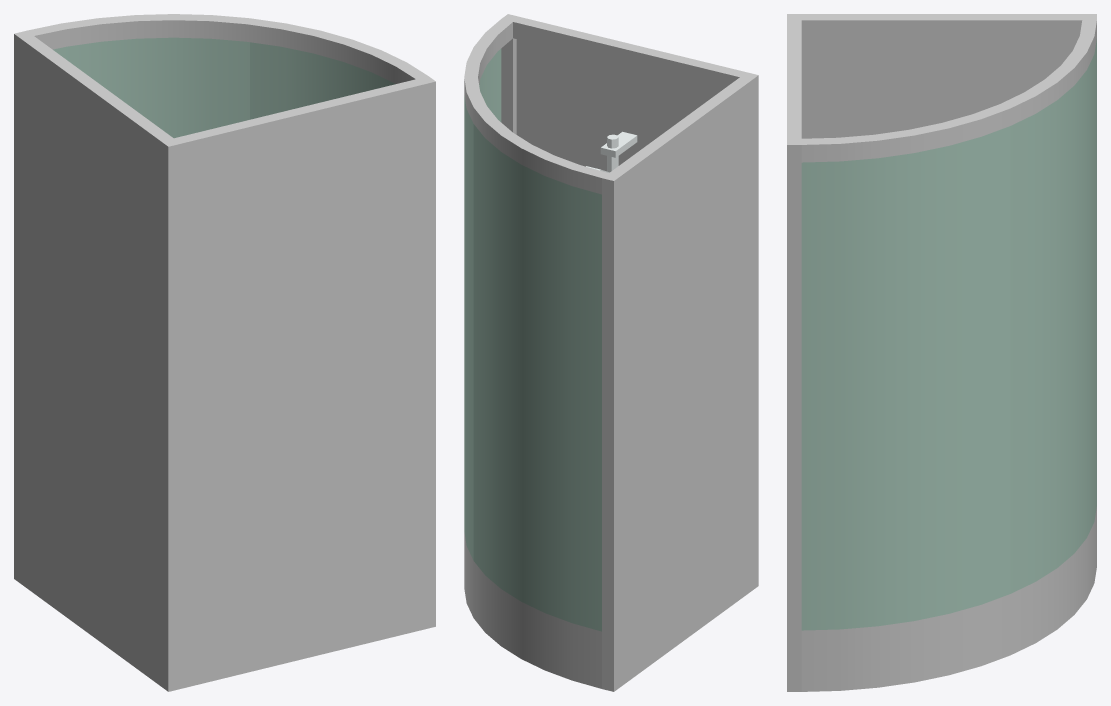
File: Shower Round.glb
The picture shows the model from 3 angles, left to right: view 1: azimuth 30°, elevation 25°; view 2: azimuth 150°, elevation 25°; view 3: azimuth 270°, elevation 25°; orthographic projection. The views are drawn at different scales.
Visible parts, largest first — view 1: showerRound, doorRight, doorLeft; view 2: showerRound, doorRight, doorLeft, faucet; view 3: doorLeft, showerRound, doorRight.
Part boxes in pixels (<box>): showerRound: <box>14,14,435,691</box>; doorRight: <box>53,37,249,138</box>; doorLeft: <box>250,42,395,119</box>; showerRound: <box>464,14,758,691</box>; doorRight: <box>473,124,601,631</box>; doorLeft: <box>464,49,501,560</box>; faucet: <box>586,131,637,172</box>; doorLeft: <box>801,126,1010,630</box>; showerRound: <box>787,14,1096,691</box>; doorRight: <box>1010,39,1096,593</box>.
Size of the model in its own units: 0.5618 by 1.09 by 0.5618.
